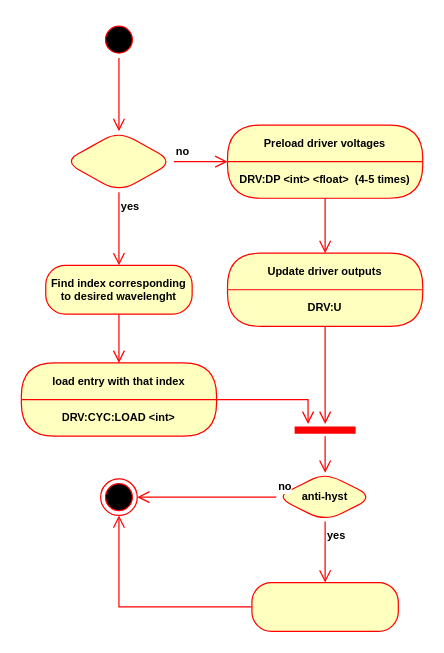
This 444x653 diagram has some shape labels left out. The centre of each missing label's shape, as x and y in pixels:
"Perform anti-hyst method" belongs at point 324,606.
"Use cycler table" belongs at point 118,161.
